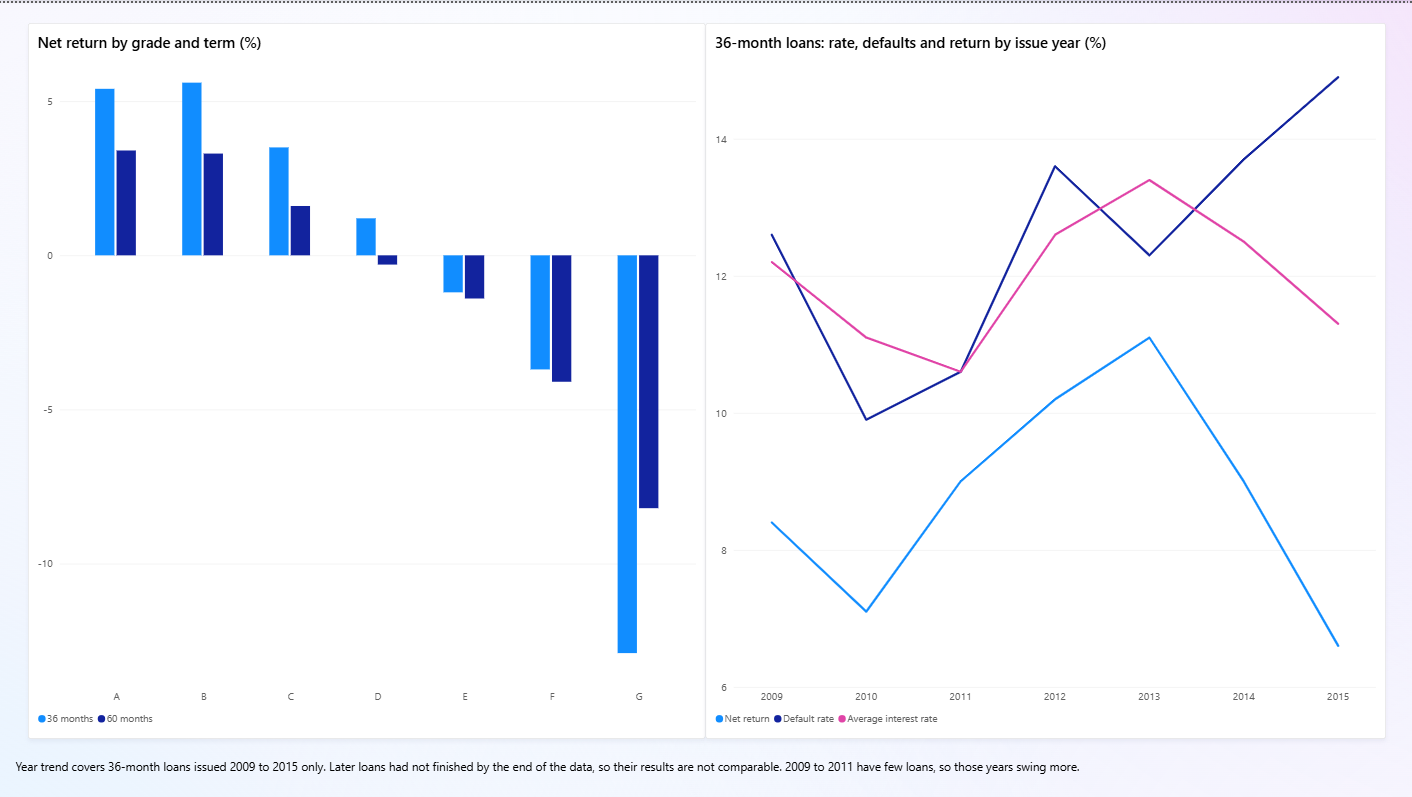

Layout of this report page (visuals, bound fields, positions):
{"tool":"powerbi","page":{"name":"Term and year","canvas":[1920,1080],"ordinal":1},"visuals":[{"type":"clusteredColumnChart","title":"Net return by grade and term (%)","fields":{"Category":["by_term_grade.grade"],"Series":["by_term_grade.term"],"Y":["Sum(by_term_grade.net_return_pct)"]},"box":[40.2,26.8,919.5,971.5],"z":0},{"type":"lineChart","title":"36-month loans: rate, defaults and return by issue year (%)","fields":{"Category":["by_year_36m.issue_year"],"Y":["Sum(by_year_36m.net_return_pct)","Sum(by_year_36m.default_pct)","Sum(by_year_36m.avg_rate_pct)"]},"box":[959.7,26.8,922.9,971.5],"z":1000},{"type":"textbox","box":[23.4,1025.1,1897.7,55.3],"z":2000}]}

Visuals, with their boxes in screenshot pixels (x1, y1, x2, y2), scaled from the page's 1920x1080 canvas onto the 1412x797 screenshot:
"Net return by grade and term (%)" clusteredColumnChart: left=30, top=20, right=706, bottom=737
"36-month loans: rate, defaults and return by issue year (%)" lineChart: left=706, top=20, right=1384, bottom=737
textbox: left=17, top=756, right=1411, bottom=796
